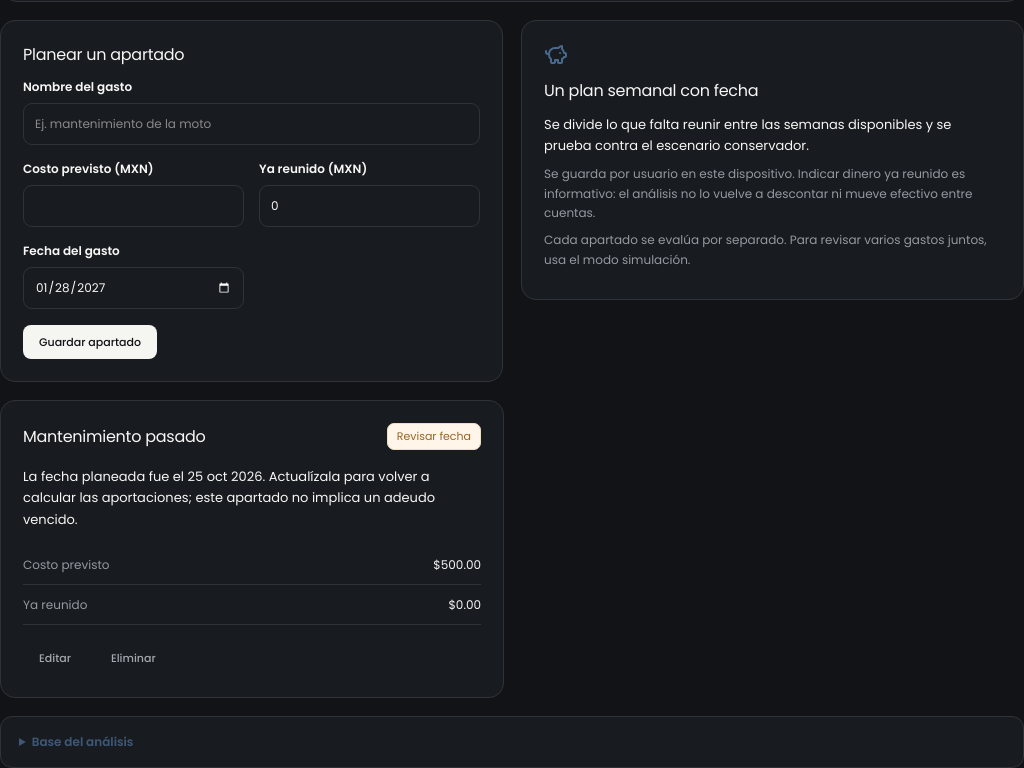
Scenario: Finance decision tools › keeps old provision plans readable after their target date instead of treating them as debt
This screenshot has width=1024, height=768.
(page scrolled)
Expected: the heading "Mantenimiento pasado" is shown, x1=23 y1=425 x2=206 y2=448
Expected: the text "Revisar fecha" is shown, x1=387 y1=423 x2=481 y2=450
Click the button with aria-label "Editar Mantenimiento pasado". click: (55, 658)
box: x1=23 y1=642 x2=87 y2=676
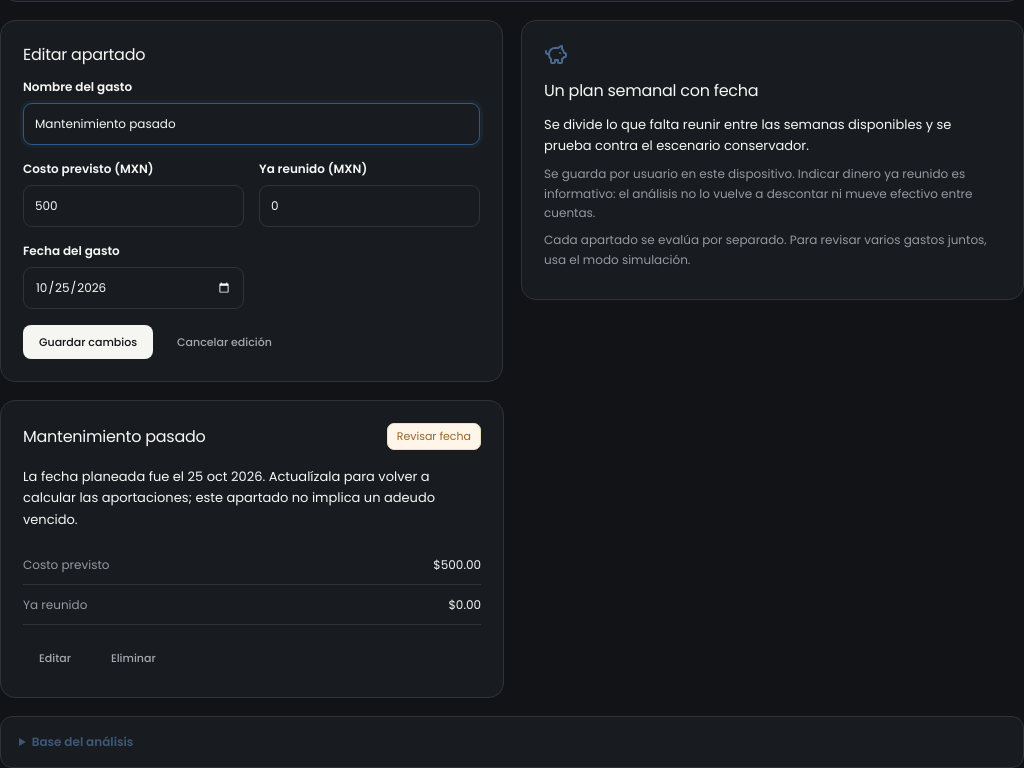
Now the date field labelled "Fecha del gasto" holds "2026-10-25", box x1=23 y1=267 x2=244 y2=309
